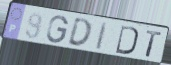9: (24, 12, 45, 41)
D: (66, 18, 93, 49), (114, 24, 140, 56)
G: (46, 15, 70, 45)
I: (94, 21, 110, 53)
T: (145, 29, 164, 59)
